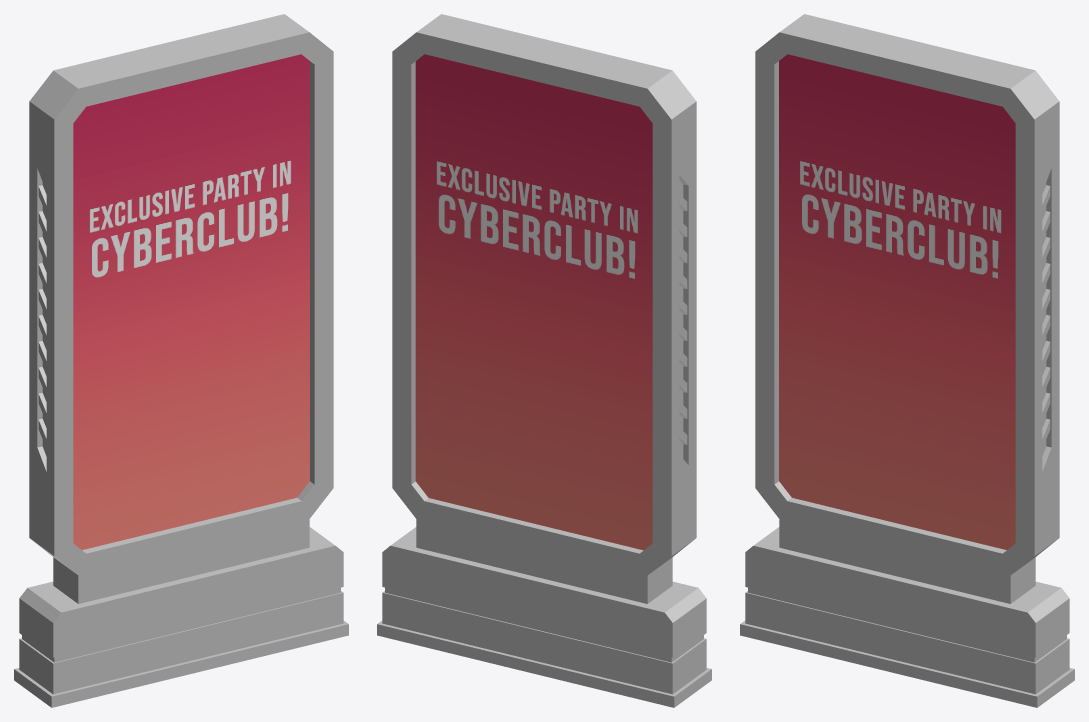
File: SM_Props_Ads_02.fbx
3 views of the same model, side by side, from view 1: azimuth 30°, elevation 25°; view 2: azimuth 150°, elevation 25°; view 3: azimuth 330°, elevation 25° (orthographic).
Visible parts, largest first — view 1: SM_Props_Ads_02; view 2: SM_Props_Ads_02; view 3: SM_Props_Ads_02.
Part boxes in pixels (x1,y1,x2,y2): SM_Props_Ads_02: [14, 14, 348, 707]; SM_Props_Ads_02: [377, 14, 711, 707]; SM_Props_Ads_02: [740, 14, 1074, 707].
Bounding box in the file's own units: 95.81 × 187 × 21.04.
